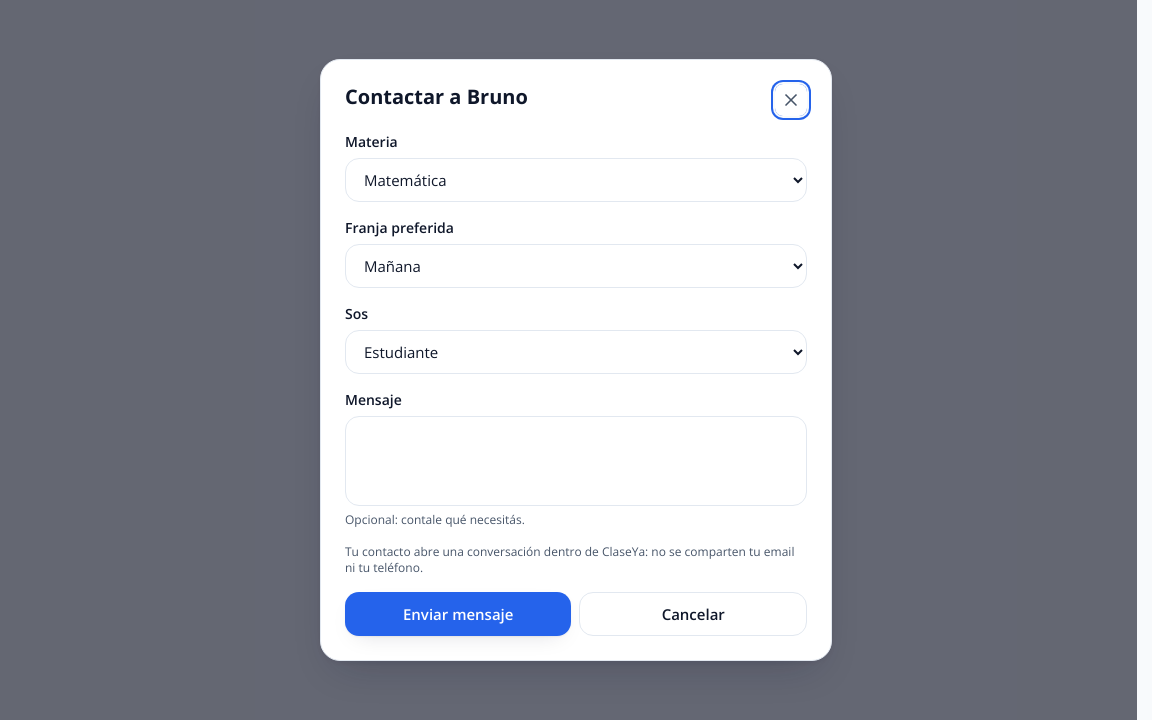
it: ContactModal errors › explains a blocked contact
The image size is (1152, 720).
Step 1. Click the button "Enviar mensaje" → (458, 614), box [345, 592, 571, 636]
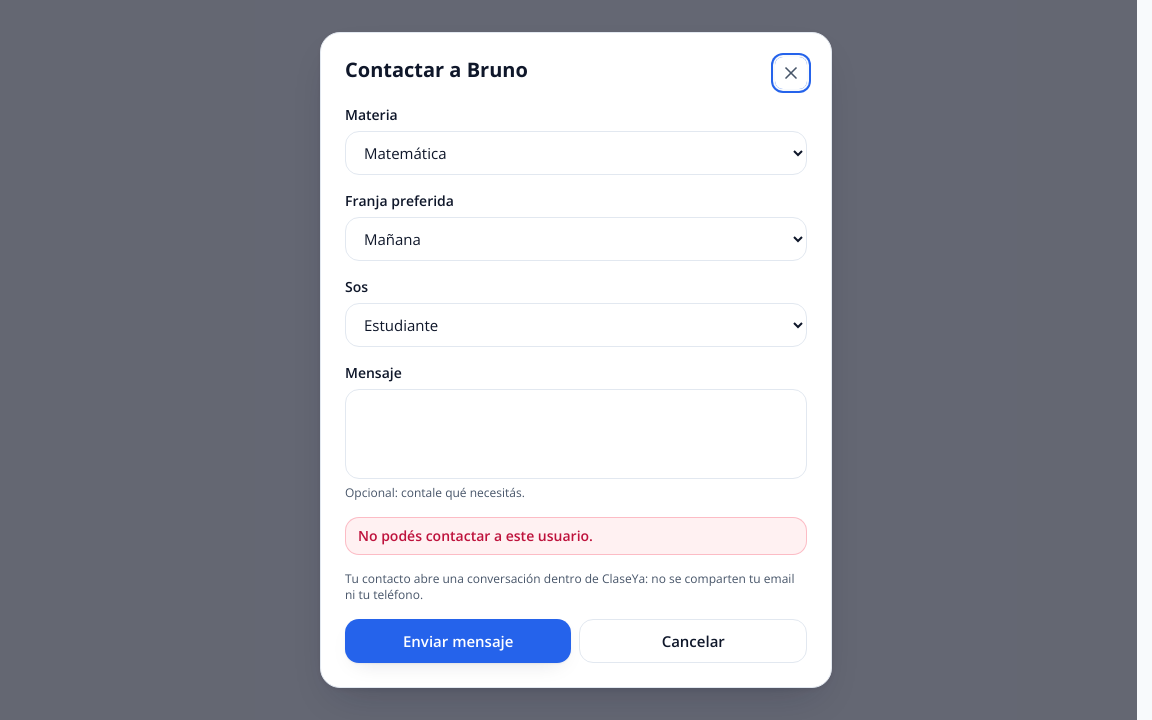
Expected: the text "No podés contactar a este usuario." is shown, [345, 517, 807, 555]
